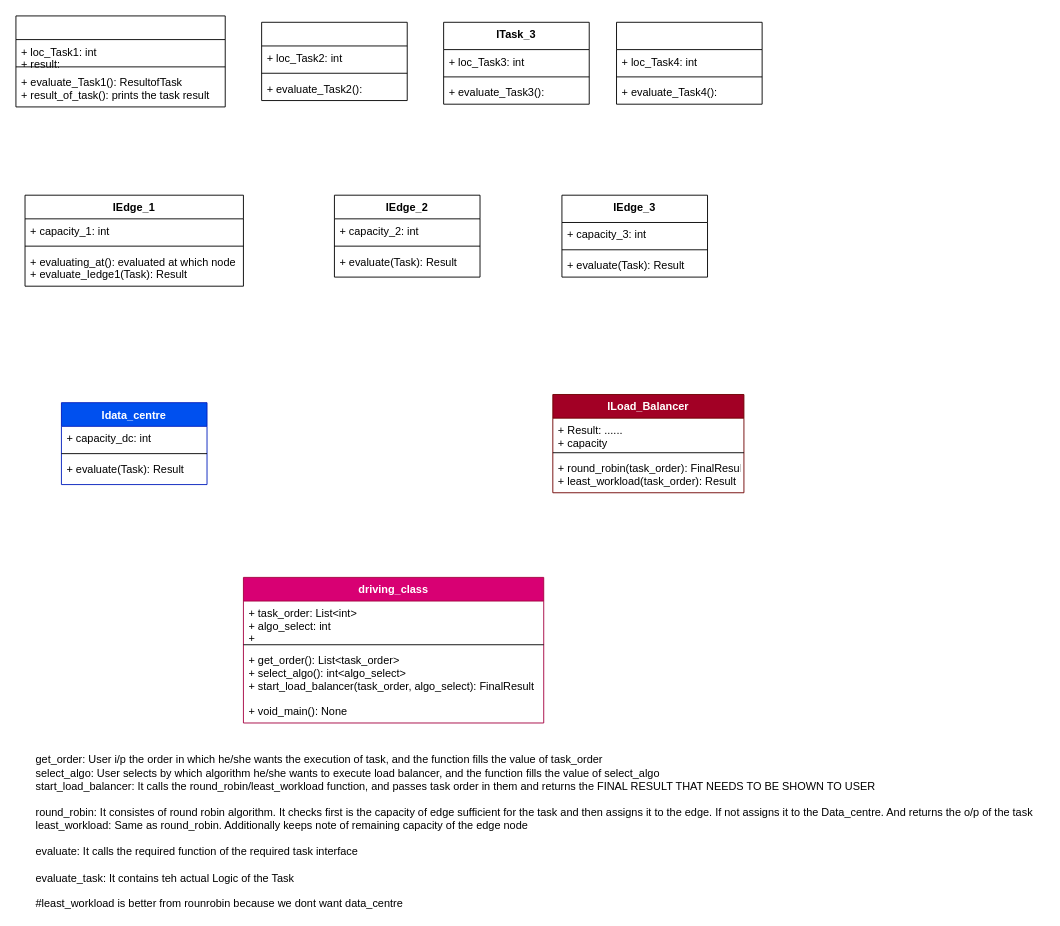
This 1060x926 diagram has some shape labels left out. The shapes that lost their labels are listed below. From the top down, each one's box as (x1, y1, x2, y2) in pixels, then its label:
(15, 15, 225, 107): ITask_1
(261, 21, 407, 101): ITask_2
(616, 21, 762, 104): ITask_4
